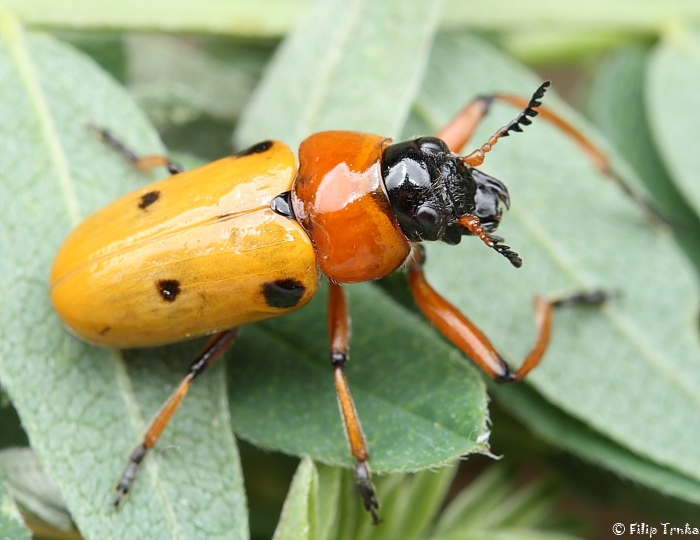Tituboea_macropus: (38, 70, 616, 524)
